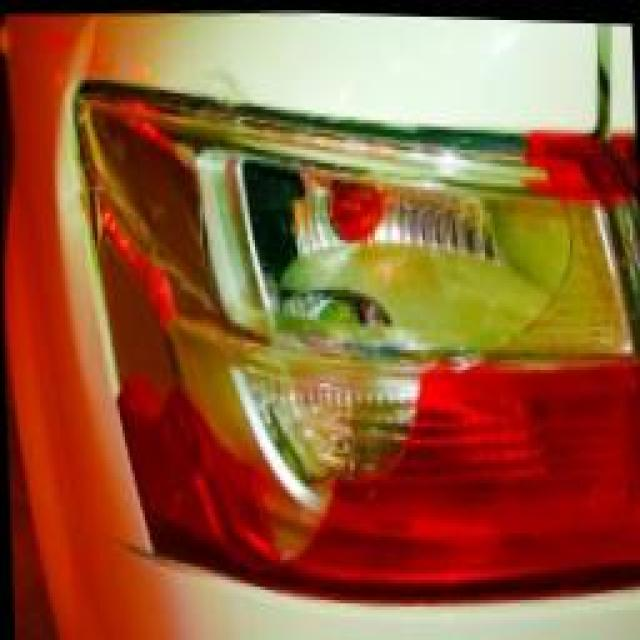Light: (122, 83, 629, 559)
